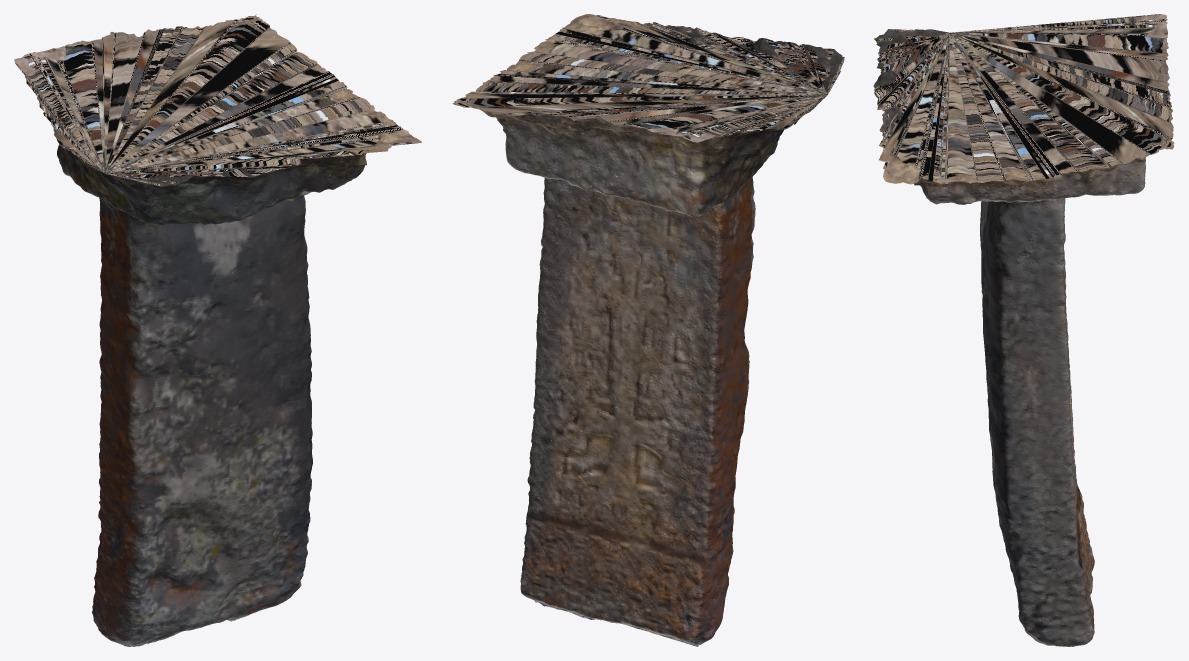
3 renders of one model, left to right at view 1: azimuth 30°, elevation 25°; view 2: azimuth 150°, elevation 25°; view 3: azimuth 270°, elevation 25°, orthographic. The views are drawn at different scales.
Visible parts, largest first — view 1: texturedMesh; view 2: texturedMesh; view 3: texturedMesh.
Boxes of the visible parts, x1,y1,x2,y2 form: texturedMesh: (14,14,421,646); texturedMesh: (452,14,844,646); texturedMesh: (873,14,1174,646).
Size of the model in its own units: 0.6984 by 1.28 by 0.6441.
Materials: 1 (1 with a texture image).
